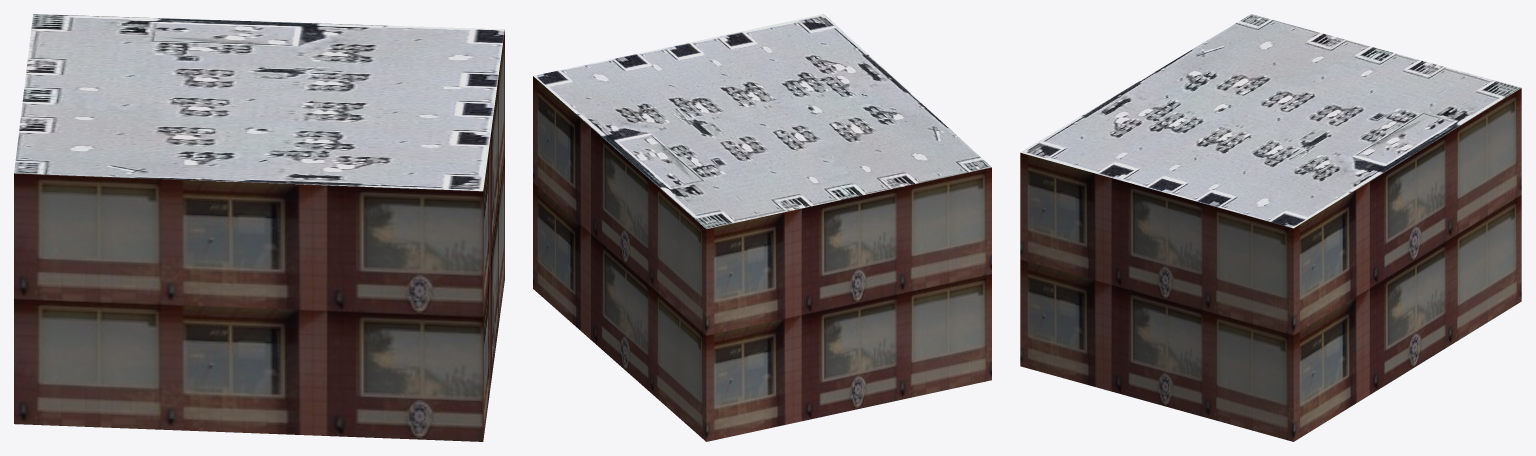
Rendered from ResTex__3034.fbx.
3 renders of one model, left to right at view 1: azimuth 30°, elevation 25°; view 2: azimuth 150°, elevation 25°; view 3: azimuth 270°, elevation 25°, orthographic. The views are drawn at different scales.
Parts seen in each view (by area): view 1: CityEngineMaterial_13_m, CityEngineMaterial_8_m; view 2: CityEngineMaterial_13_m, CityEngineMaterial_8_m; view 3: CityEngineMaterial_13_m, CityEngineMaterial_8_m.
Part boxes in pixels (x1,y1,x2,y2): CityEngineMaterial_13_m: [14, 30, 504, 441]; CityEngineMaterial_8_m: [14, 14, 504, 191]; CityEngineMaterial_13_m: [533, 76, 991, 441]; CityEngineMaterial_8_m: [533, 14, 991, 228]; CityEngineMaterial_13_m: [1020, 88, 1521, 441]; CityEngineMaterial_8_m: [1020, 14, 1521, 228].
Bounding box in the file's own units: 12.92 × 6 × 12.76.
Materials: 2 (2 with a texture image).
